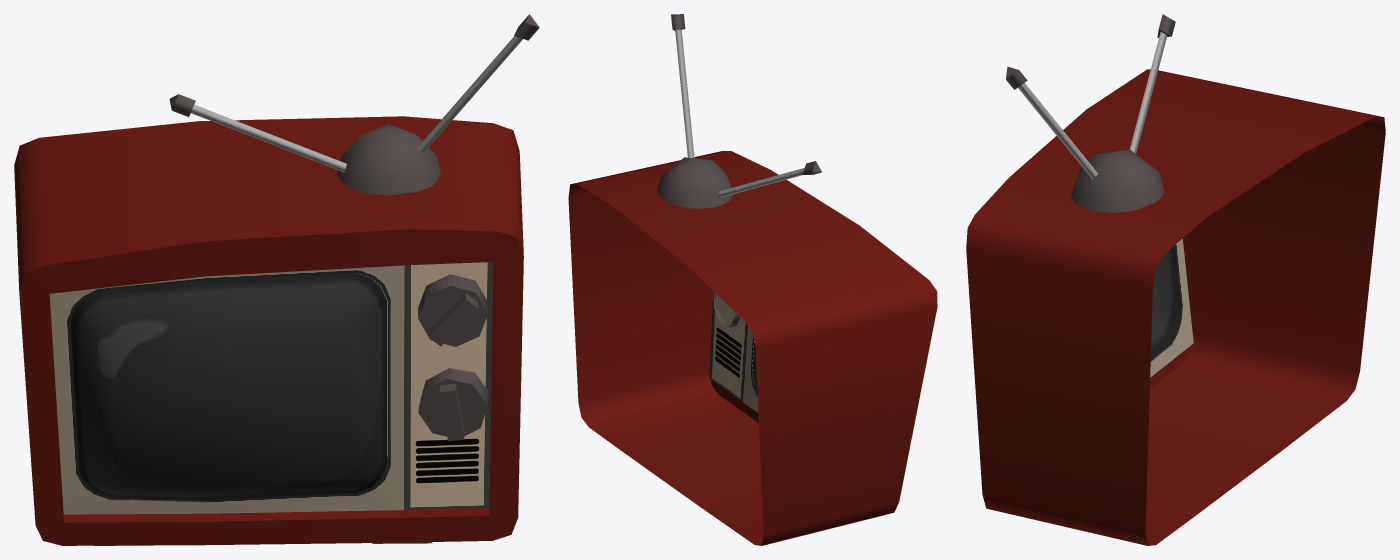
3 renders of one model, left to right at view 1: azimuth 30°, elevation 25°; view 2: azimuth 150°, elevation 25°; view 3: azimuth 270°, elevation 25°, orthographic. The views are drawn at different scales.
Parts seen in each view (by area): view 1: Tv, TtvScreen; view 2: Tv; view 3: Tv, TtvScreen.
Boxes of the visible parts, x1,y1,x2,y2 form: Tv: (14,14,539,545); TtvScreen: (70,272,386,499); Tv: (568,14,937,545); Tv: (966,14,1385,545); TtvScreen: (1150,245,1181,358).
Size of the model in its own units: 12.1 by 12.2 by 9.72.
